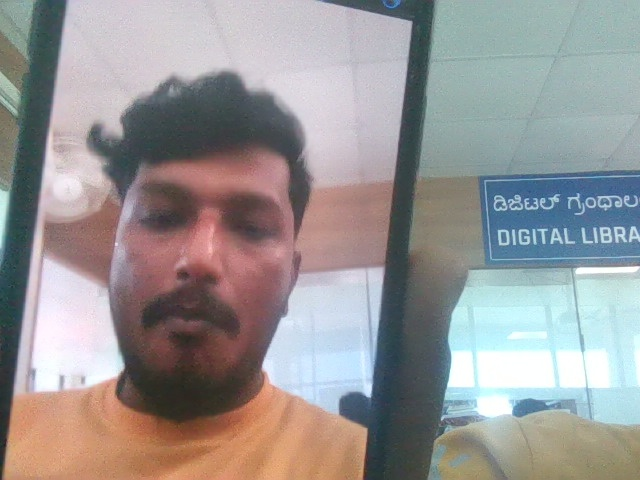fake: (79, 56, 331, 413)
